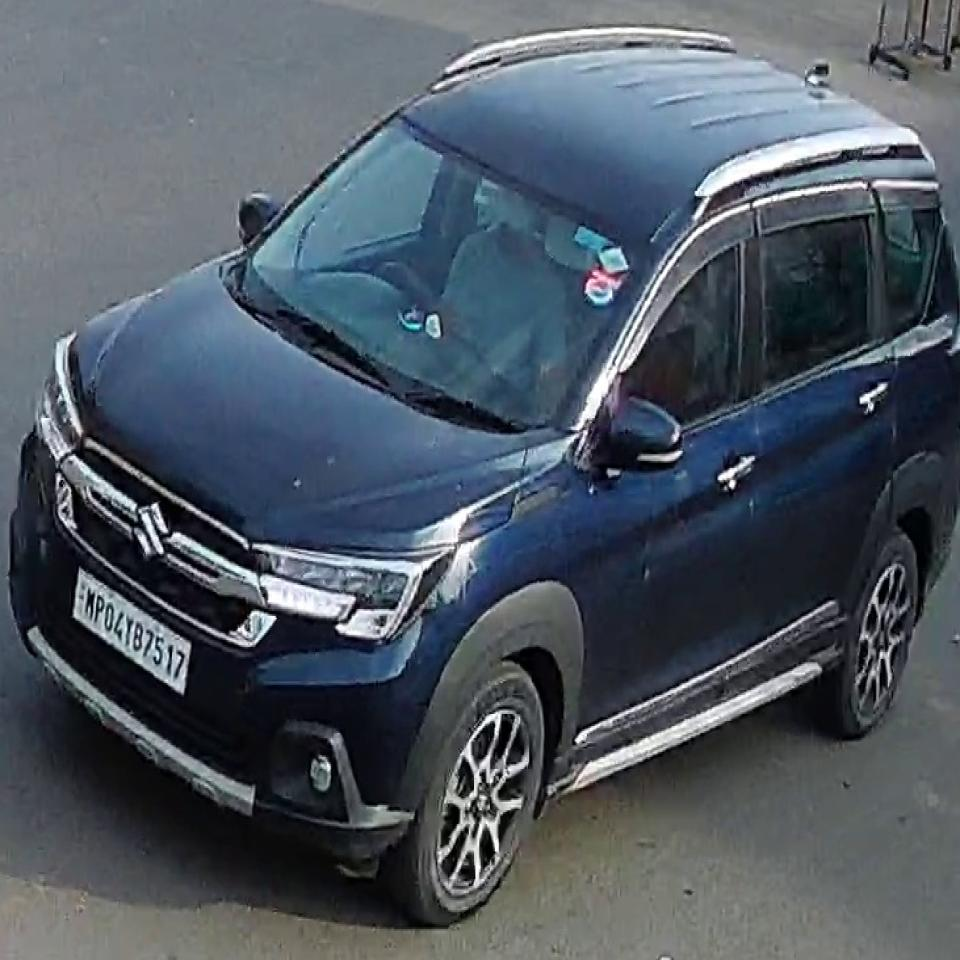head_light: (259, 543, 422, 645)
